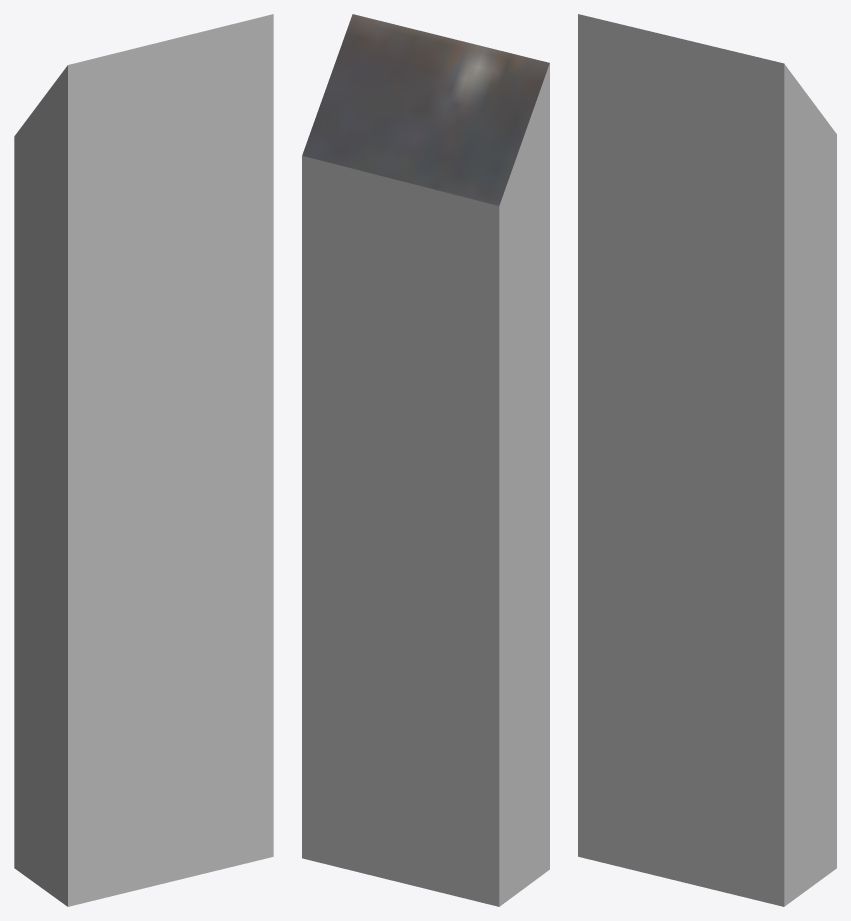
Rendered from DEBW_0010007THWt.gltf.
3 renders of one model, left to right at view 1: azimuth 30°, elevation 25°; view 2: azimuth 150°, elevation 25°; view 3: azimuth 330°, elevation 25°, orthographic. The views are drawn at different scales.
Visible parts, largest first — view 1: Z_UP; view 2: Z_UP; view 3: Z_UP.
Part boxes in pixels (x1=…): Z_UP: x1=14, y1=14, x2=273, y2=906; Z_UP: x1=302, y1=14, x2=549, y2=906; Z_UP: x1=578, y1=14, x2=836, y2=906.
Bounding box in the file's own units: 4.52 × 17.64 × 2.02.
2 materials, 1 textured.
